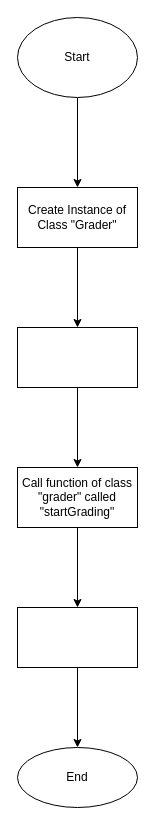
Some shapes in this 155 by 825 pixel diagram are drawn without their labels. Here are the shapes that lost their labels. From the top down, the centre of each, then its label:
(77,357): Call function "get Input" with parameter "grader"
(77,637): Call function "printResults" with parameter "grader"
